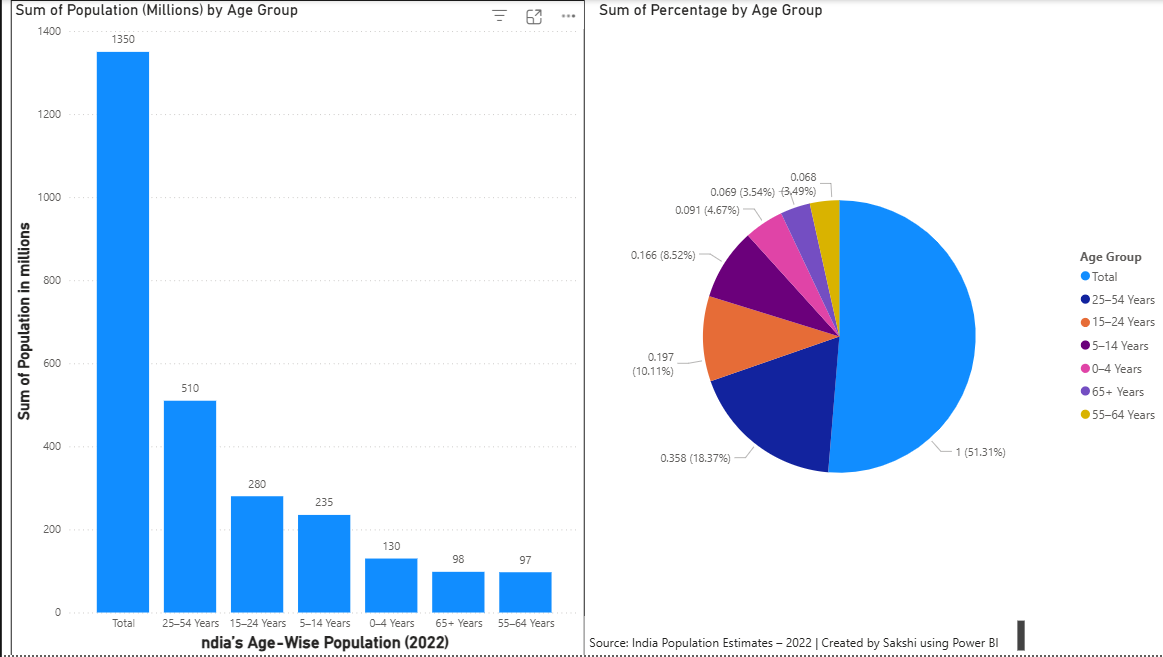

The dashboard page shown, as its layout file describes it:
{"tool":"powerbi","page":{"name":"Page 1","canvas":[1280,720],"ordinal":0},"visuals":[{"type":"columnChart","fields":{"Category":["India_Population_2022.Age Group"],"Y":["Sum(India_Population_2022.Population (Millions))"]},"box":[9.6,0,629.8,720.4],"z":0},{"type":"pieChart","fields":{"Category":["India_Population_2022.Age Group"],"Y":["Sum(India_Population_2022.Percentage)"]},"box":[650,0,630,720],"z":1},{"type":"textbox","box":[639.5,676.5,488.5,43.9],"z":2}]}

Visuals, with their boxes in screenshot pixels (x1, y1, x2, y2), scaled from the page's 1280x720 canvas onto the 1163x657 screenshot:
columnChart - India_Population_2022.Age Group x Sum(India_Population_2022.Population (Millions)): box(9, 0, 581, 656)
pieChart - India_Population_2022.Age Group x Sum(India_Population_2022.Percentage): box(591, 0, 1162, 656)
textbox: box(581, 617, 1025, 656)
